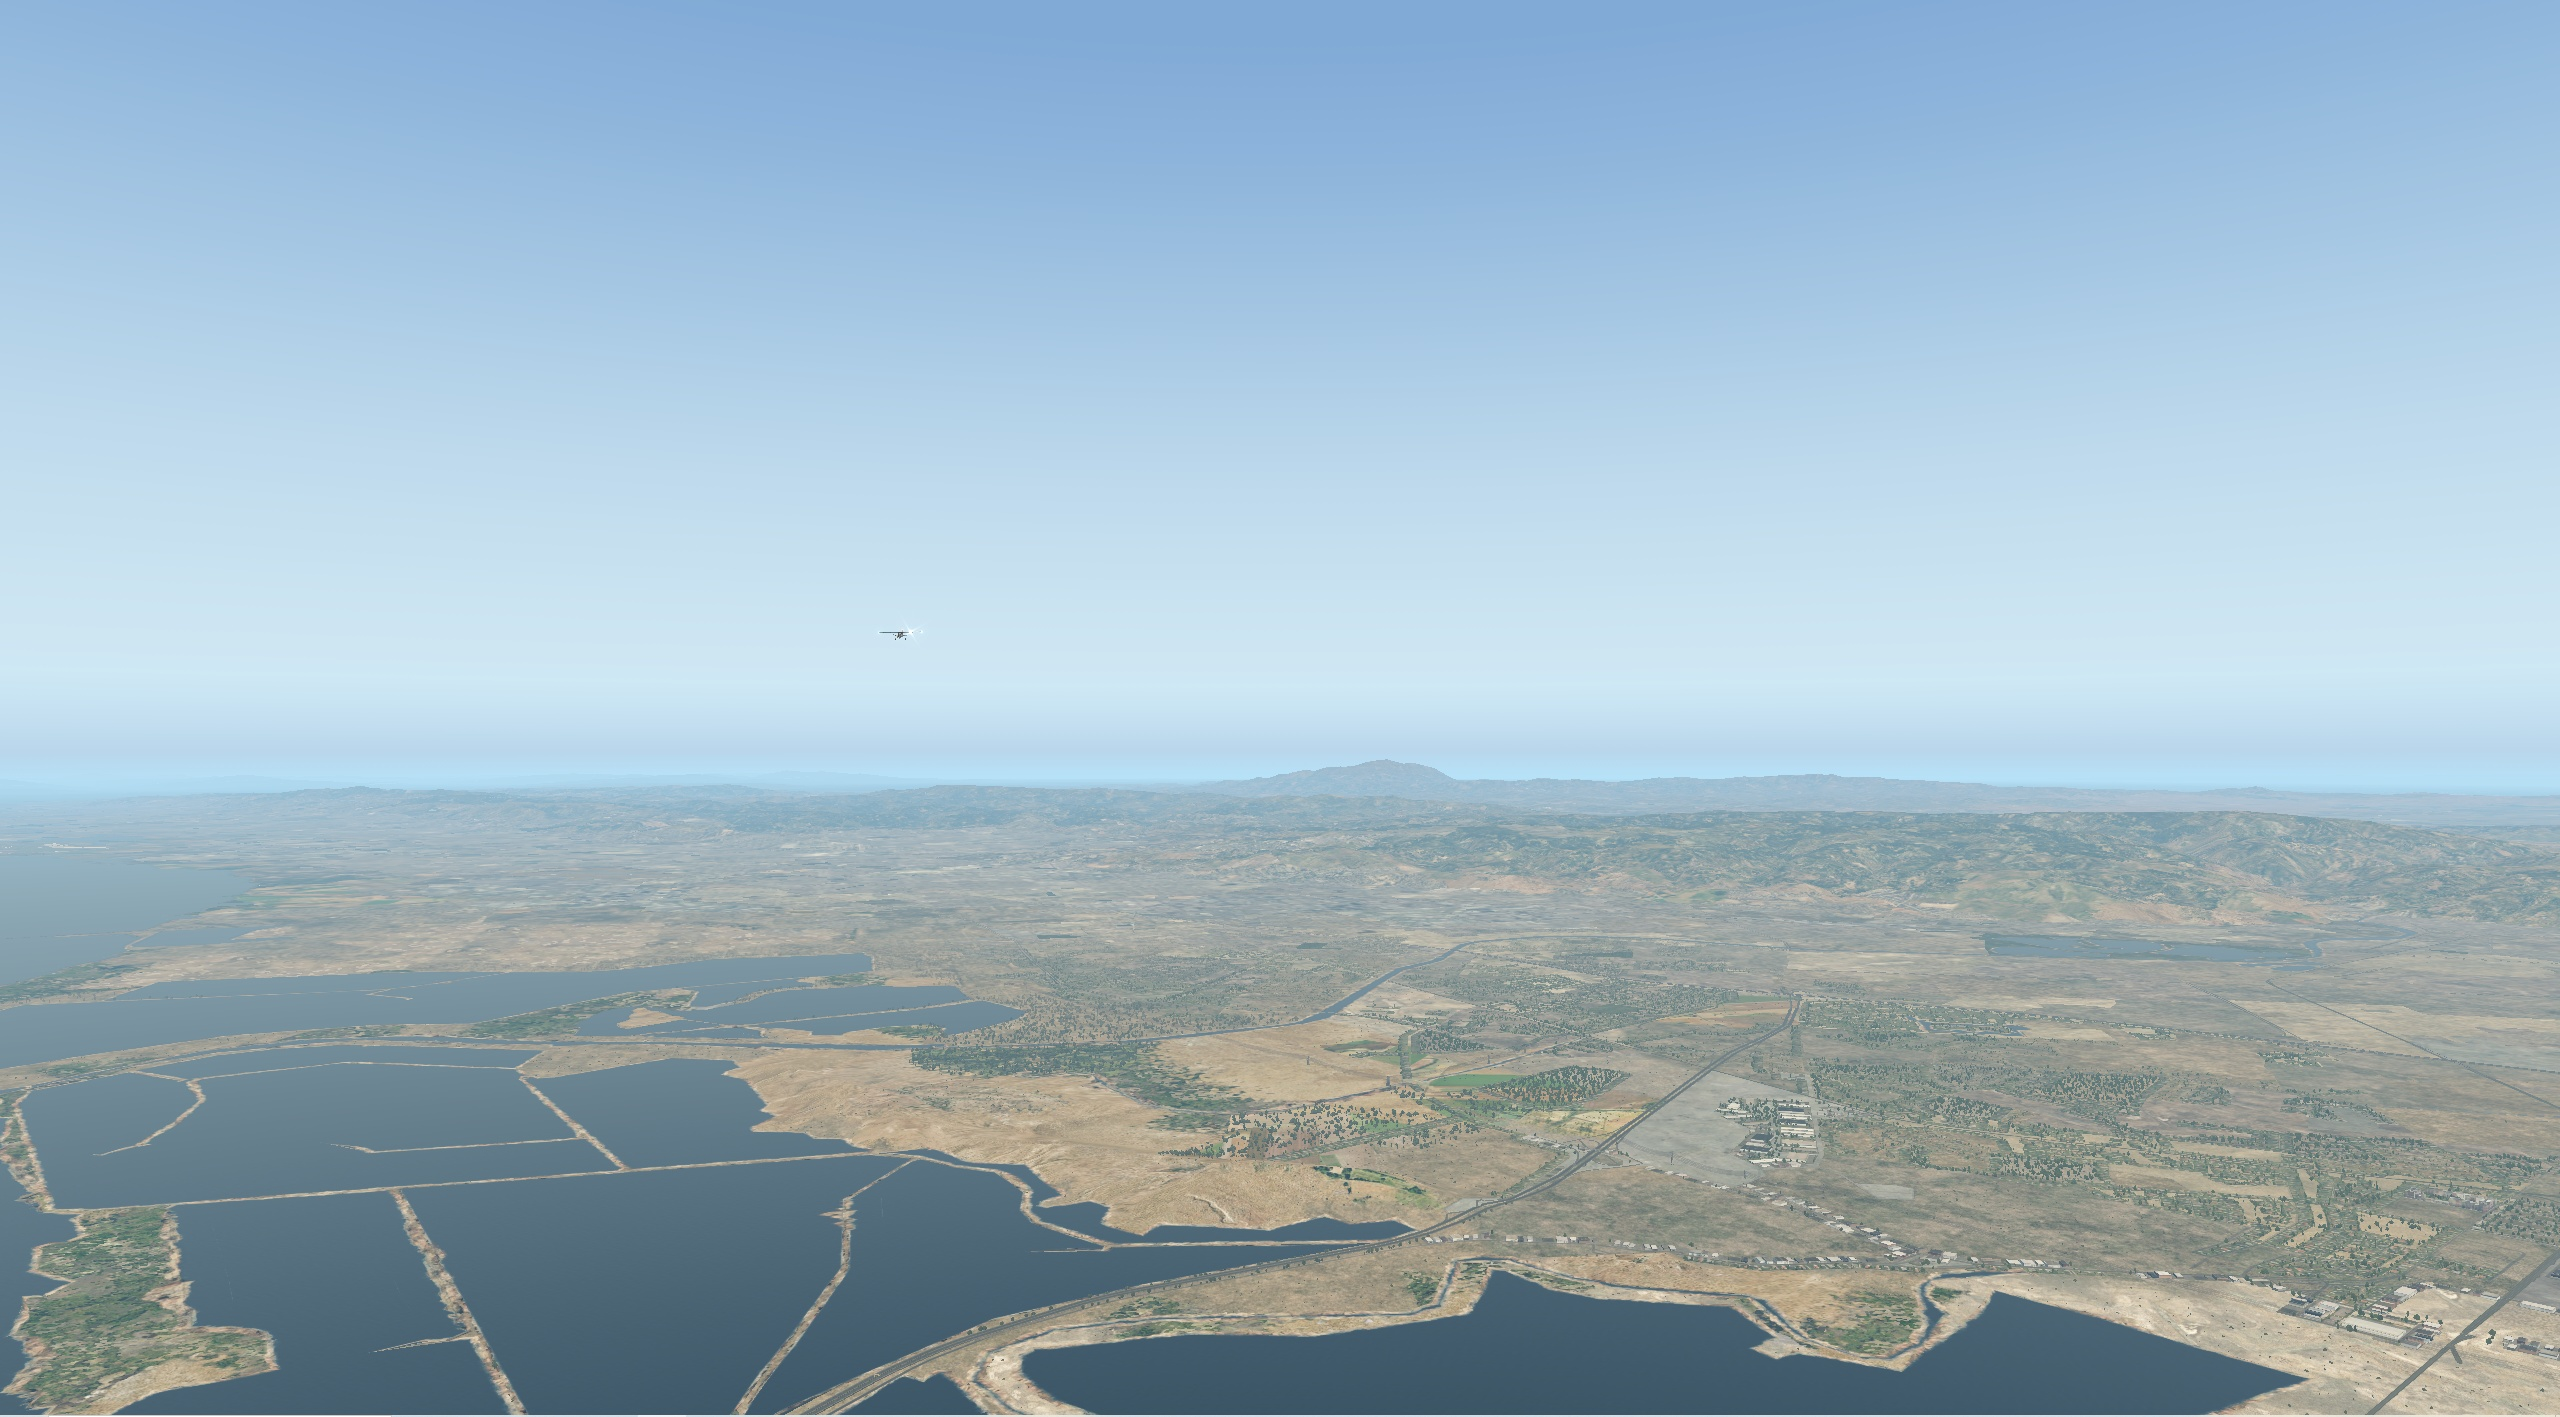aircraft: (876, 625, 925, 644)
